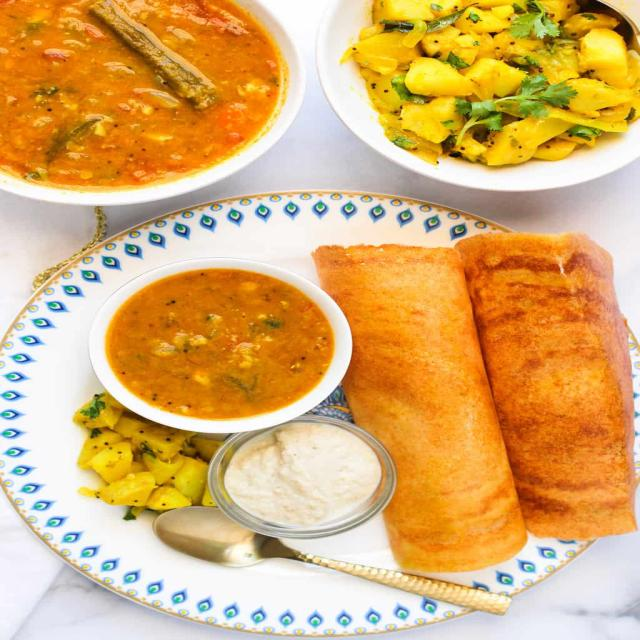Wet Waste: (310, 230, 532, 584), (444, 228, 639, 540)
